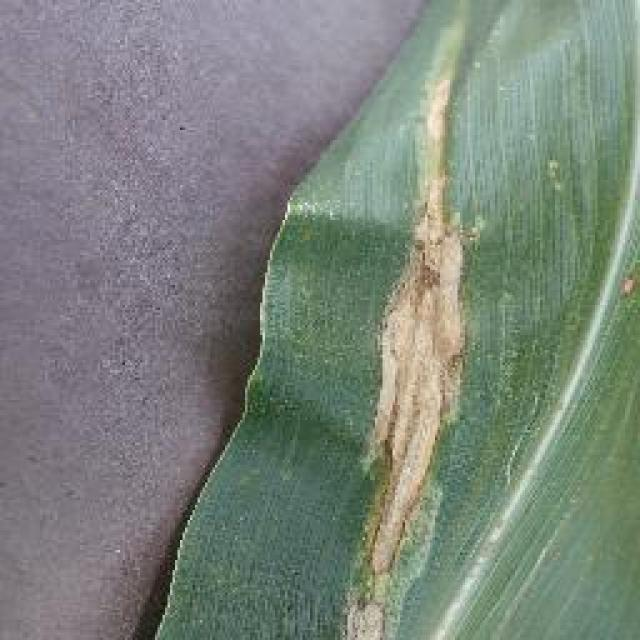Corn___Northern_Leaf_Blight: (130, 0, 640, 640)
